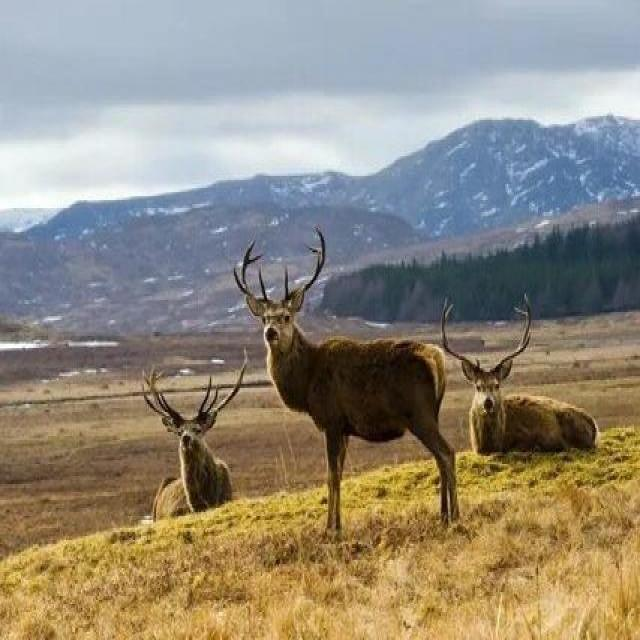deer: (235, 228, 468, 536), (420, 277, 600, 512), (134, 363, 252, 525)
